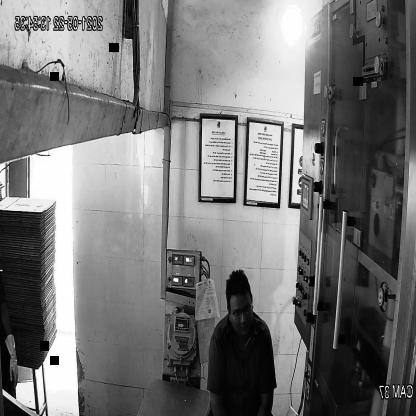goggles: (228, 298, 255, 322)
